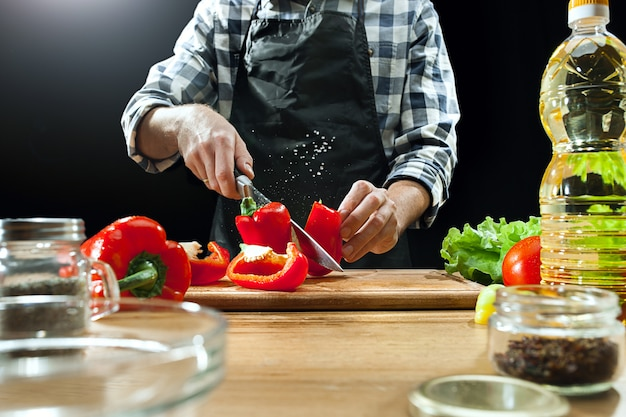knife: (235, 168, 344, 274)
